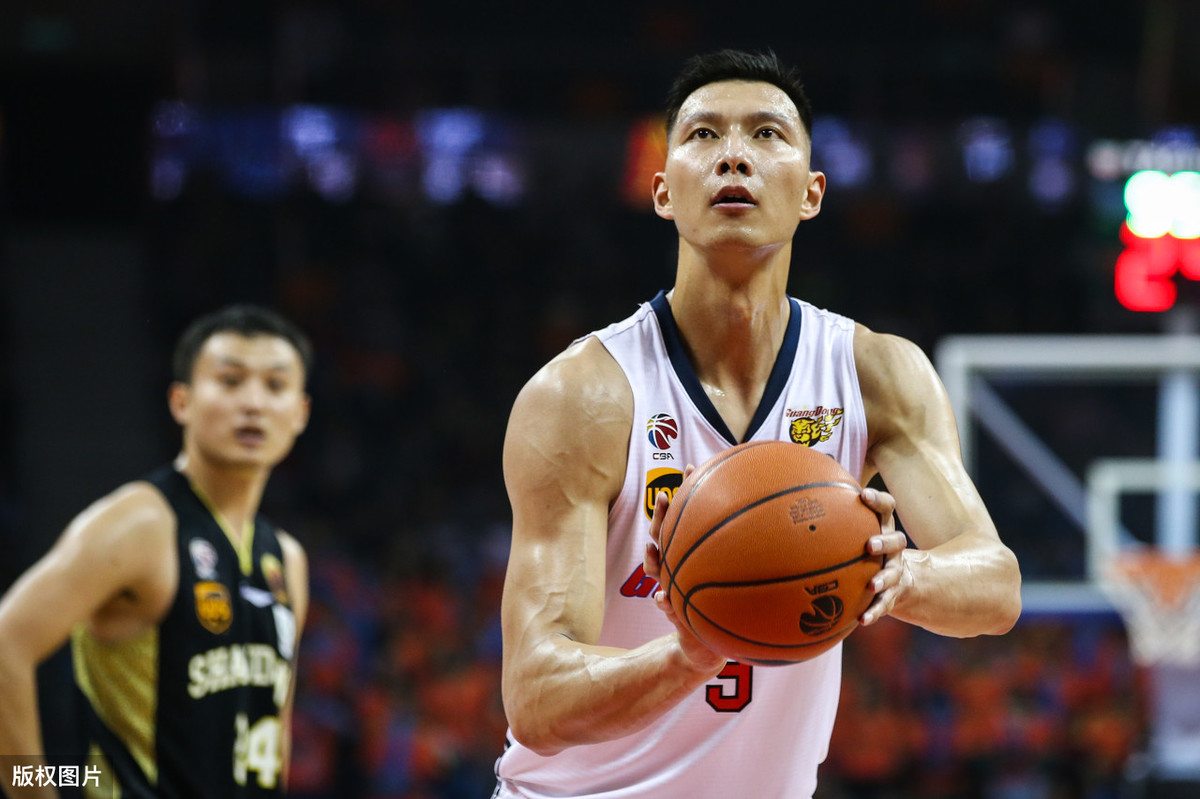ball: (659, 439, 888, 670)
